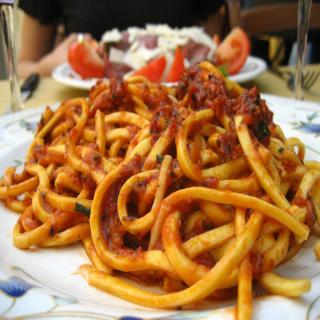tomato: (58, 41, 106, 75)
